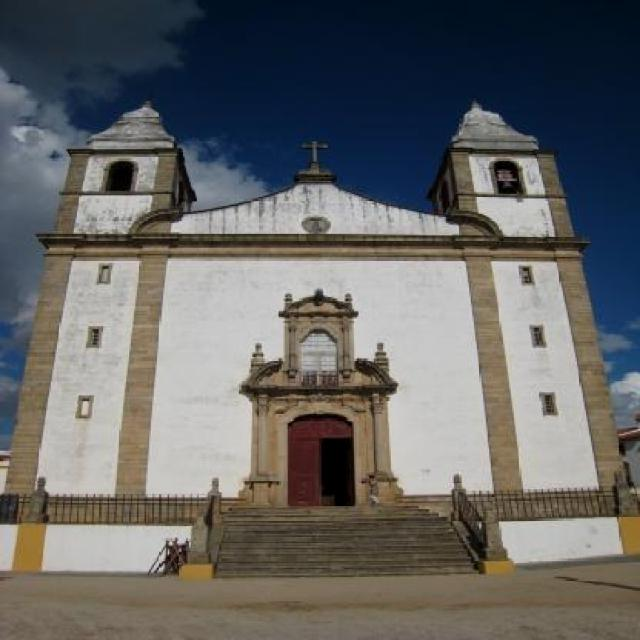stair: (208, 502, 486, 582)
